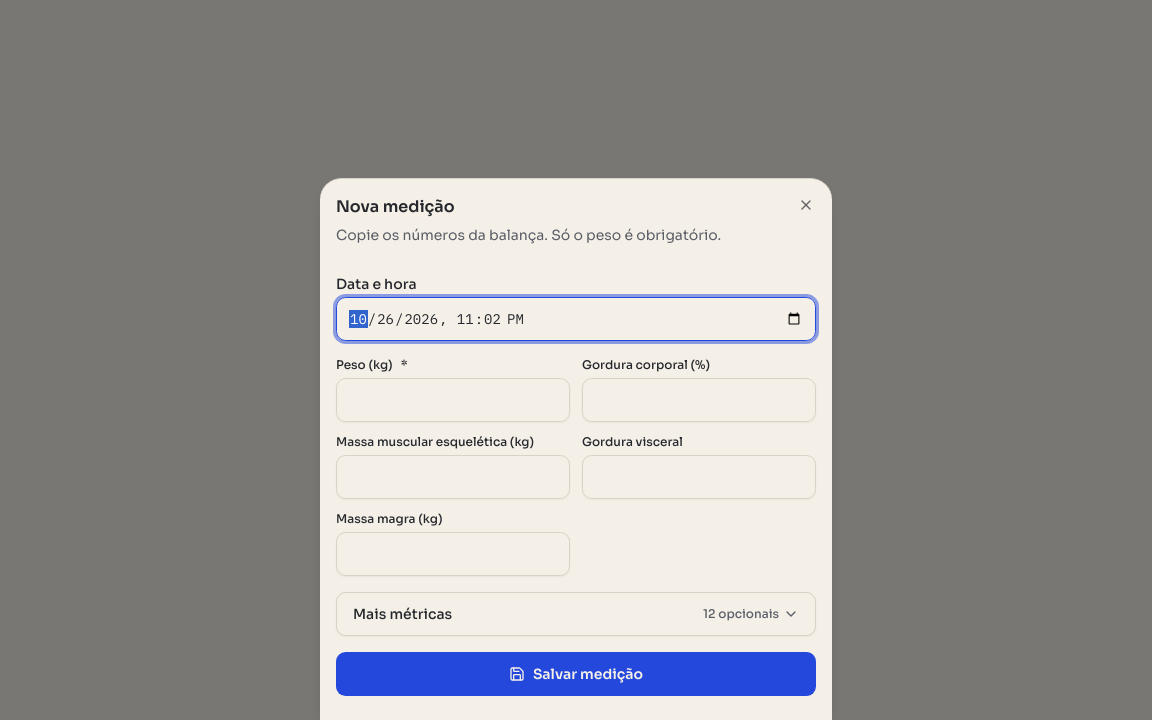
MeasurementSheet › sem peso: pede o peso
Click the button "Salvar medição". click: (576,674)
box: [336,652,816,696]
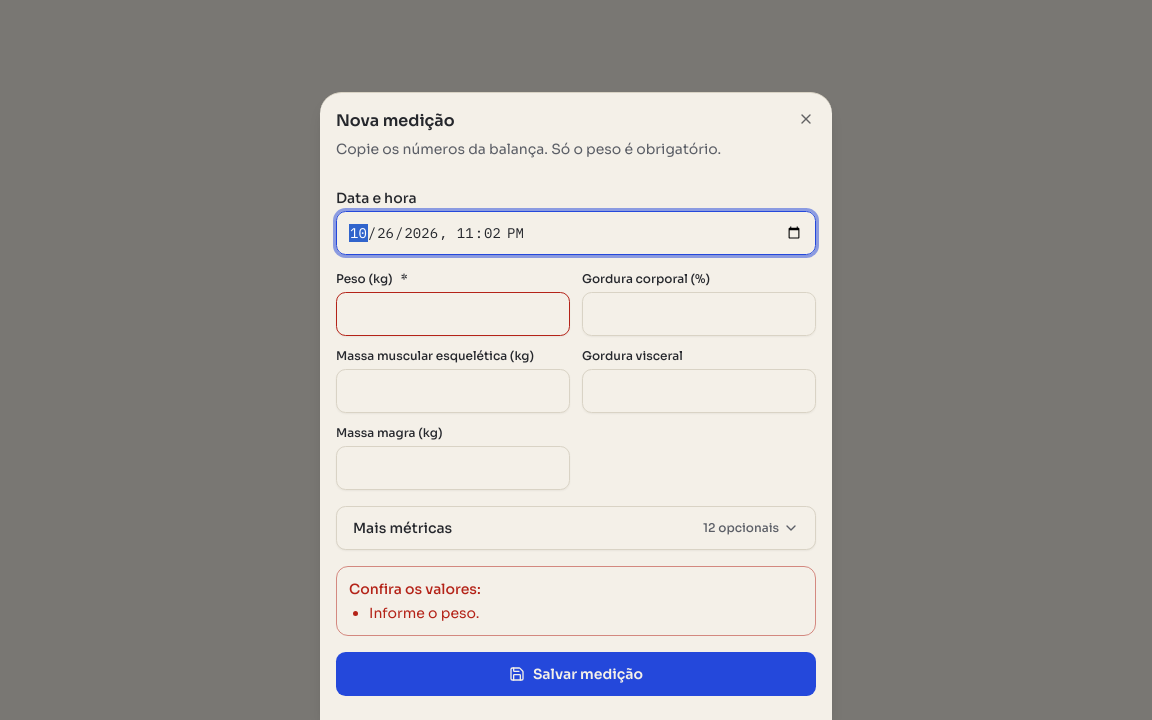
Now the message shows "Informe o peso.", box [369,604,479,622]
